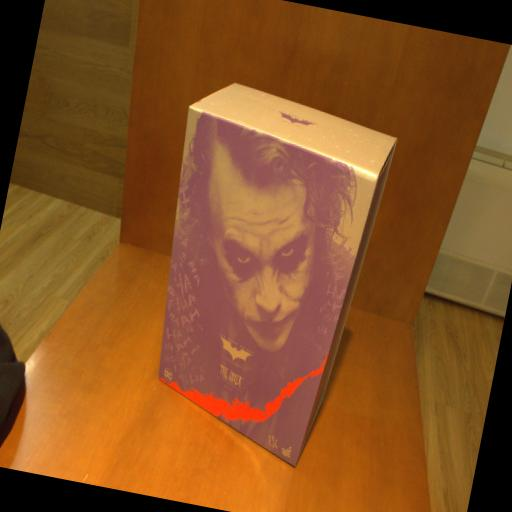Joker: (125, 73, 403, 479)
